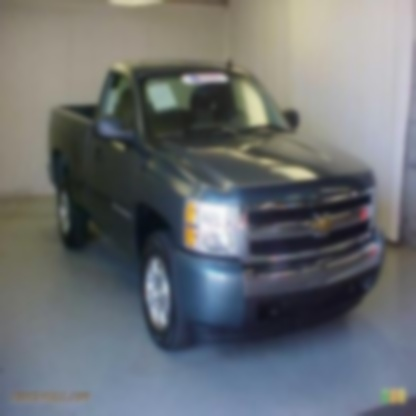Vehicle: (47, 57, 385, 352)
